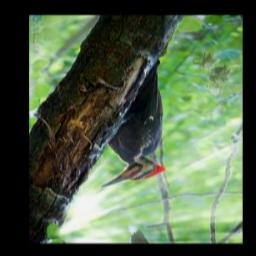Woodpecker: (98, 59, 168, 189)
